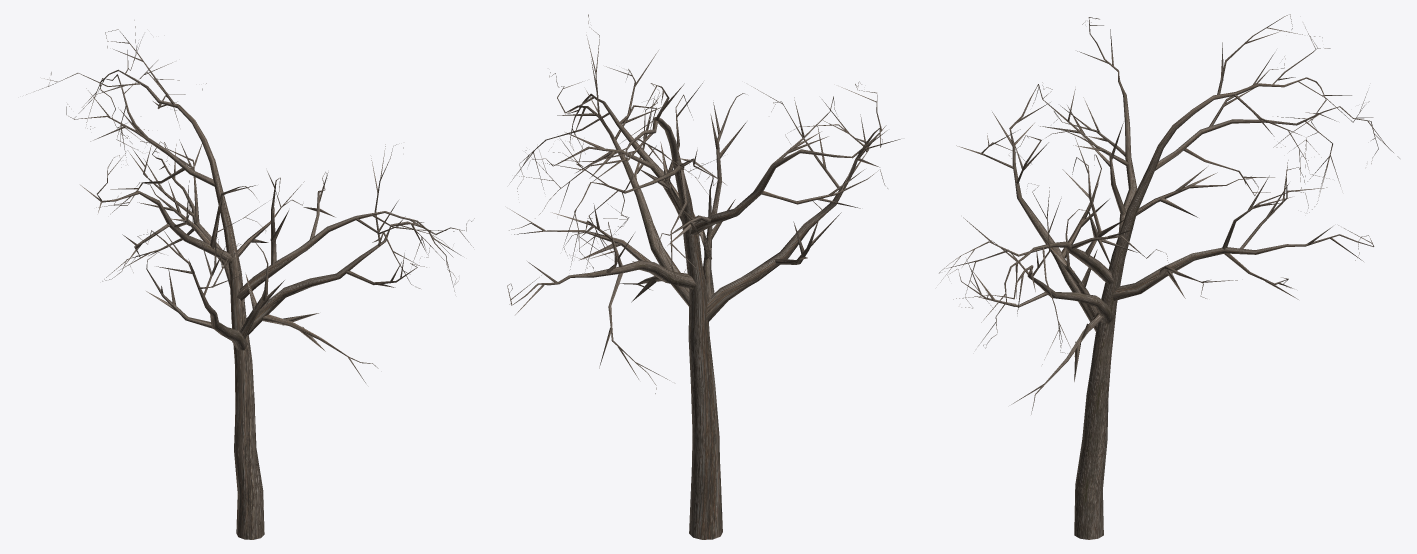
File: SM_DeadTree_A_ez.gltf
3 renders of one model, left to right at view 1: azimuth 30°, elevation 25°; view 2: azimuth 150°, elevation 25°; view 3: azimuth 270°, elevation 25°, orthographic. The views are drawn at different scales.
Parts seen in each view (by area): view 1: SM_DeadTree_A_ez; view 2: SM_DeadTree_A_ez; view 3: SM_DeadTree_A_ez.
Part boxes in pixels (x1,y1,x2,y2): SM_DeadTree_A_ez: (26,20,474,539); SM_DeadTree_A_ez: (507,14,900,539); SM_DeadTree_A_ez: (939,14,1399,539).
Bounding box in the file's own units: 7.16 × 9 × 7.74.
1 material, 1 textured.
